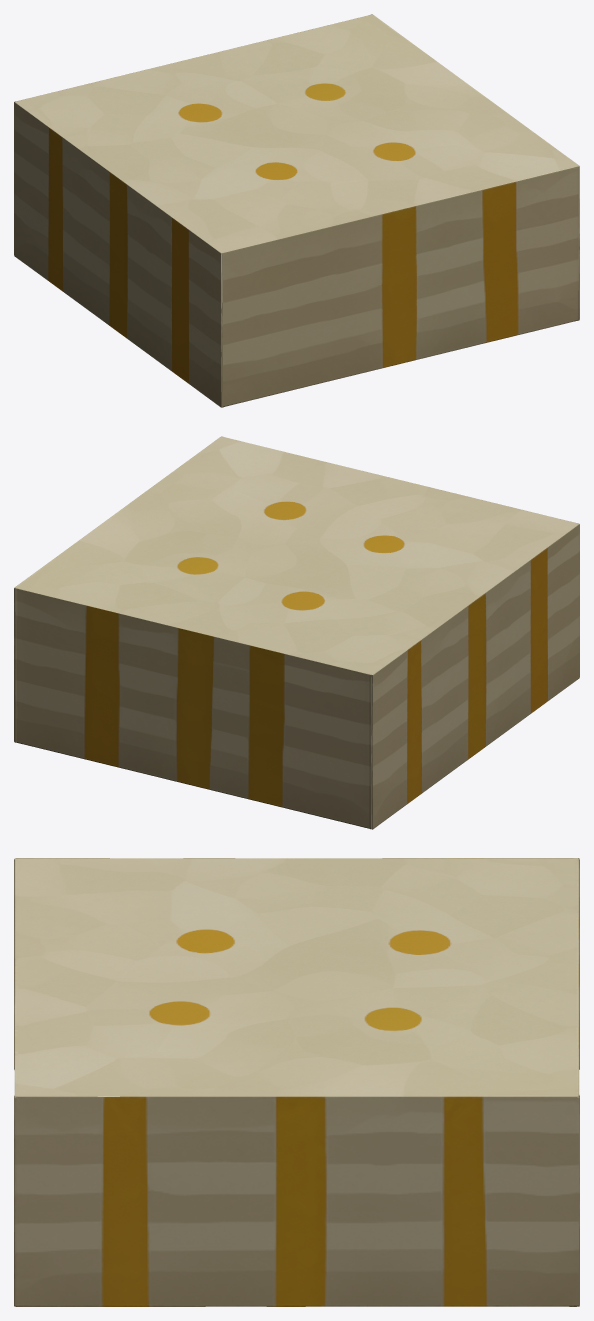
The picture shows the model from 3 angles, top to bottom: view 1: azimuth 30°, elevation 25°; view 2: azimuth 150°, elevation 25°; view 3: azimuth 270°, elevation 25°; orthographic projection. The views are drawn at different scales.
Visible parts, largest first — view 1: world; view 2: world; view 3: world.
Part boxes in pixels (x1,y1,x2,y2): world: (14, 14, 579, 407); world: (14, 436, 579, 829); world: (14, 858, 579, 1306).
Size of the model in its own units: 1 by 0.4125 by 1.
1 material, 1 textured.
